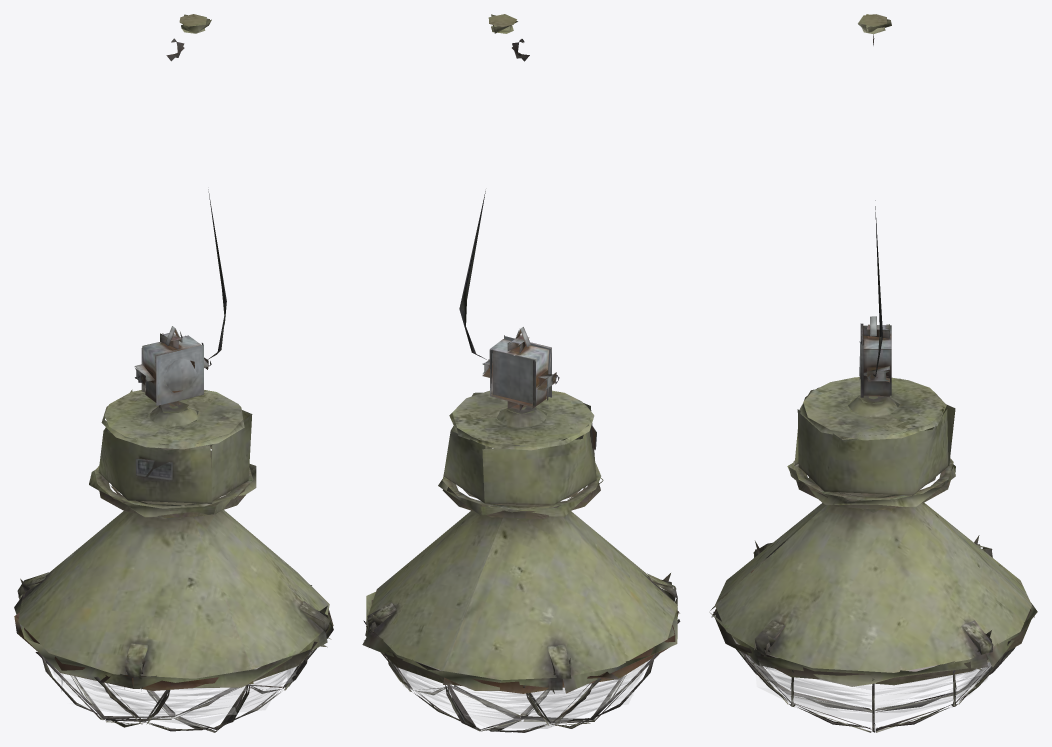
Rendered from ph_hanging_industrial_lamp.glb.
The picture shows the model from 3 angles, left to right: view 1: azimuth 30°, elevation 25°; view 2: azimuth 150°, elevation 25°; view 3: azimuth 270°, elevation 25°; orthographic projection.
Visible parts, largest first — view 1: hanging_industrial_lamp; view 2: hanging_industrial_lamp; view 3: hanging_industrial_lamp.
Part boxes in pixels (<box>): hanging_industrial_lamp: <box>14,14,333,732</box>; hanging_industrial_lamp: <box>362,14,680,732</box>; hanging_industrial_lamp: <box>709,14,1037,732</box>.
Bounding box in the file's own units: 0.5632 × 1.34 × 0.5694.
2 materials, 1 textured.
